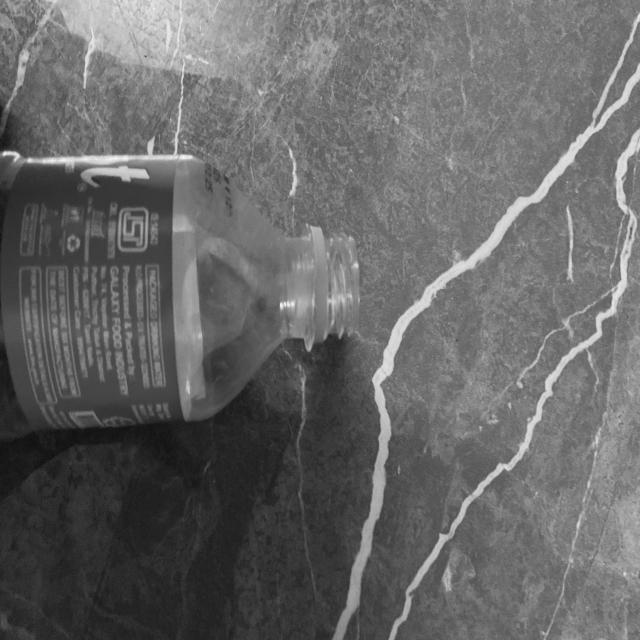open-cap: (306, 220, 360, 356)
